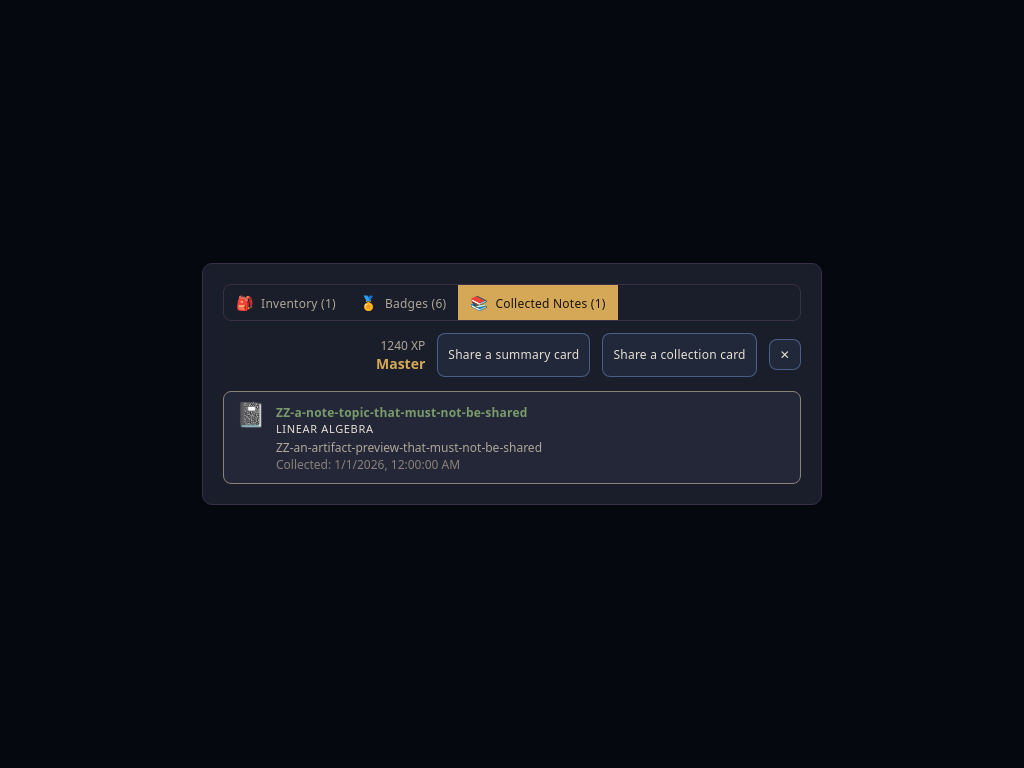
Test case: the pre-Phase-20 test gate keeps passing on the panel › still opens the collected-note detail
This screenshot has width=1024, height=768.
Step 1. Click the button "ZZ-a-note-topic-that-must-not-be-shared" → (402, 412), box 276,404 -> 528,421
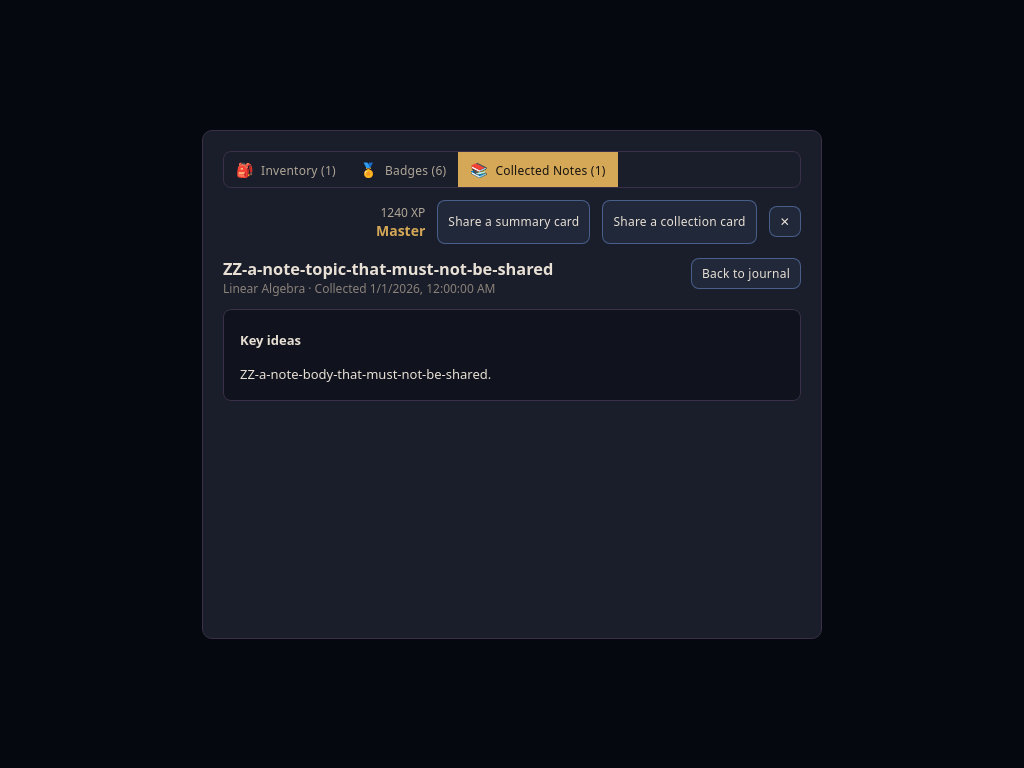
Expected: the text "ZZ-a-note-body-that-must-not-be-shared." is shown, 240,365 -> 491,383
Expected: the button "Back to journal" is shown, 691,258 -> 801,288
